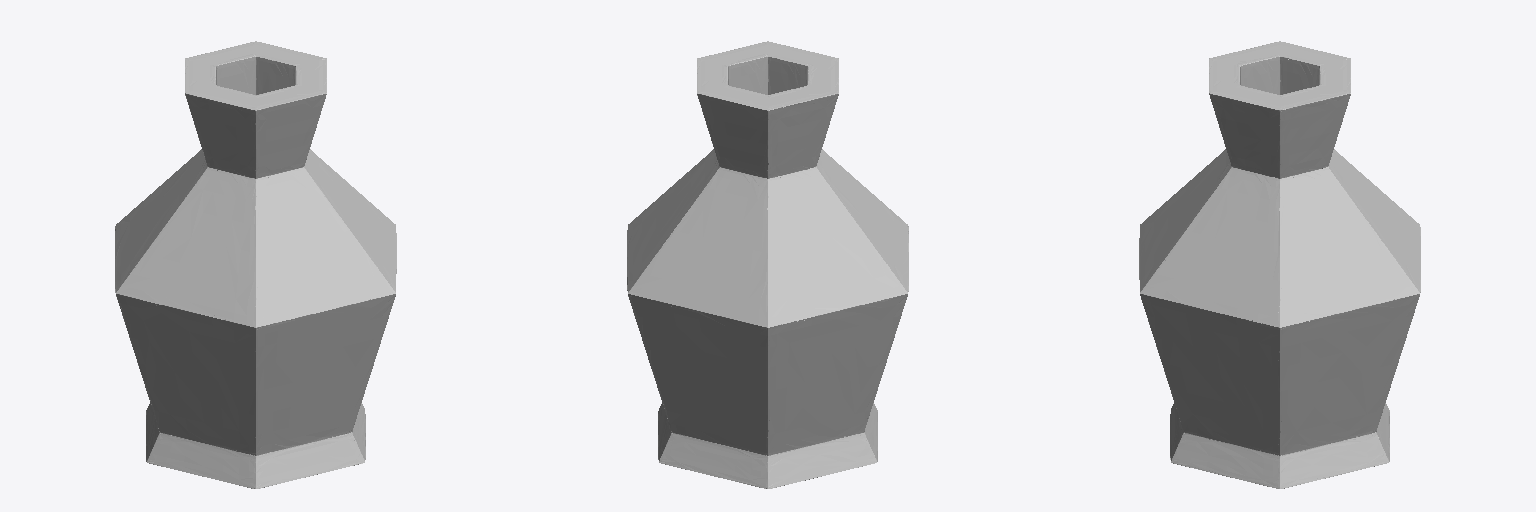
The model's file is vaso_medio.obj.
3 views of the same model, side by side, from view 1: azimuth 30°, elevation 25°; view 2: azimuth 150°, elevation 25°; view 3: azimuth 270°, elevation 25° (orthographic).
Visible parts, largest first — view 1: Cylinder014; view 2: Cylinder014; view 3: Cylinder014.
Part boxes in pixels (left/top/right/bottom): Cylinder014: left=115, top=41, right=396, bottom=488; Cylinder014: left=627, top=41, right=908, bottom=488; Cylinder014: left=1139, top=41, right=1420, bottom=488.
Size of the model in its own units: 0.2823 by 0.3468 by 0.2449.